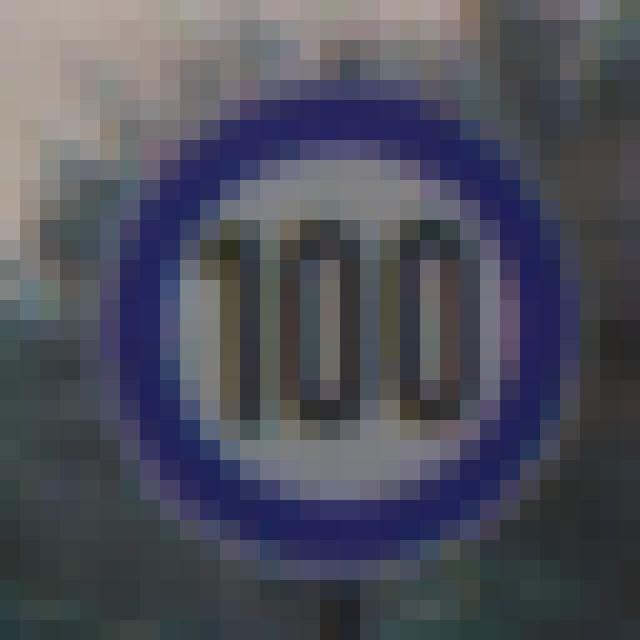SPEED LIMIT 100: (105, 81, 585, 572)
